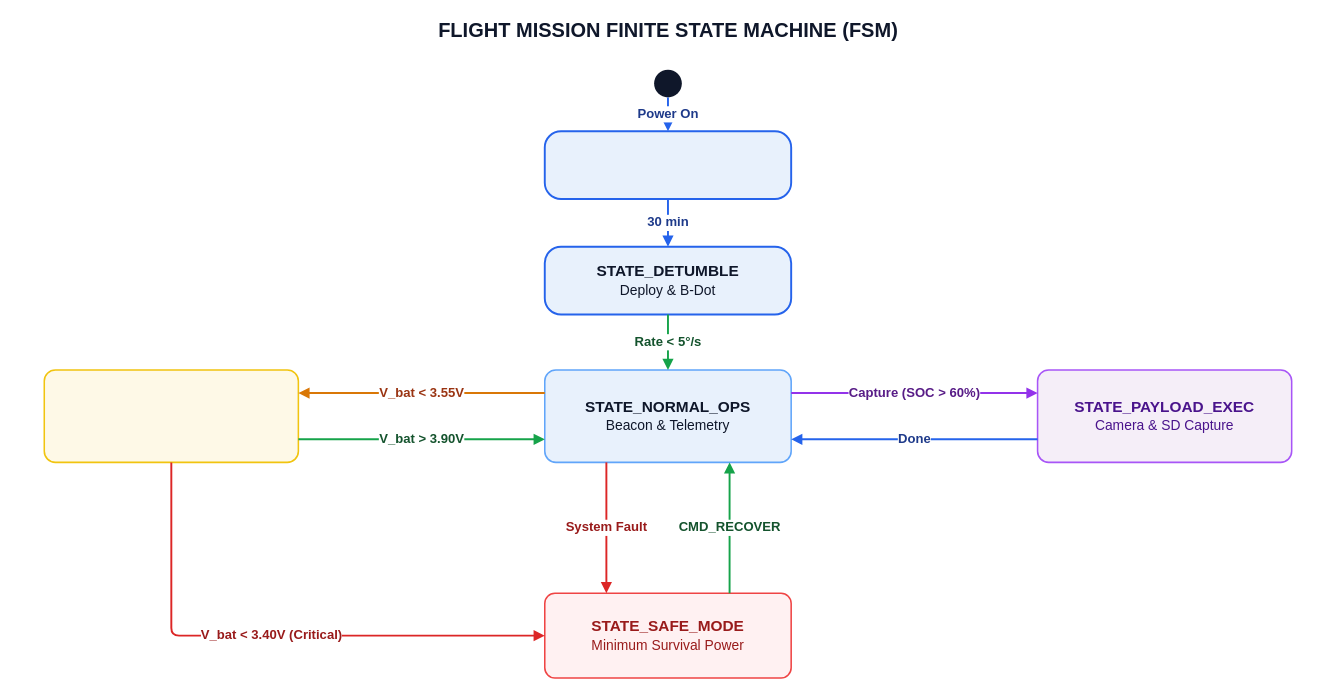
This 1335x691 diagram has some shape labels left out. The shapes that lost their labels are listed below. From the top down, each one's box as (x1, y1, x2, y2) in pixels, then its label:
(543, 130, 792, 200): STATE_BOOT 30-min RF Silence
(43, 369, 299, 463): STATE_POWER_SAVE Shed Secondary Loads
